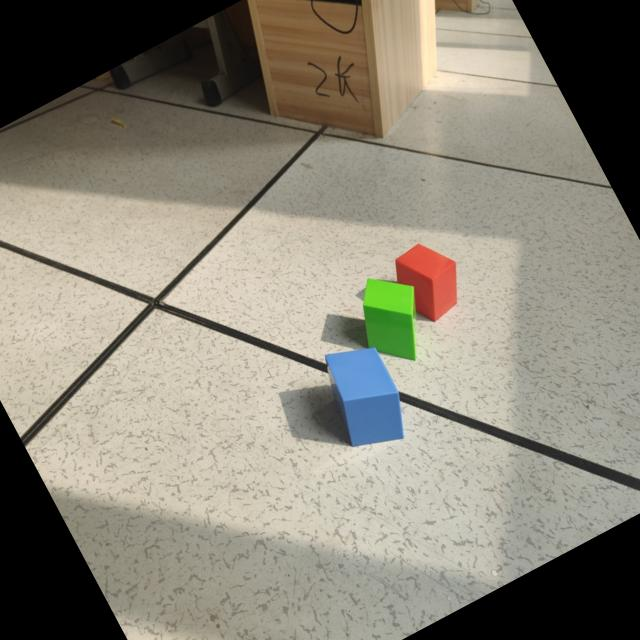blue: (325, 348, 405, 448)
green: (360, 279, 419, 361)
red: (395, 244, 459, 323)
